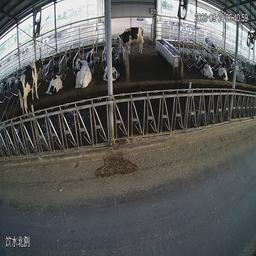cow: (45, 63, 65, 100), (73, 58, 92, 90), (195, 53, 215, 81), (229, 58, 246, 85), (101, 61, 121, 83), (215, 59, 230, 84), (204, 35, 219, 58), (64, 52, 81, 71), (85, 48, 100, 66)
